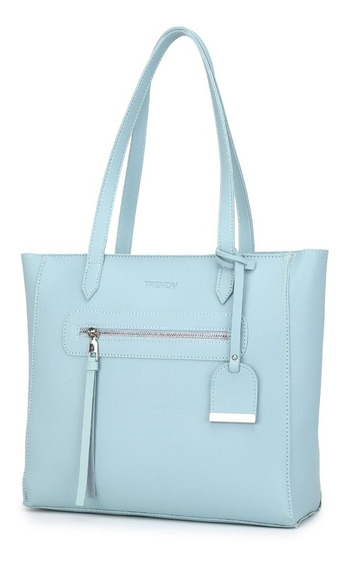cartera: (18, 27, 327, 531)
